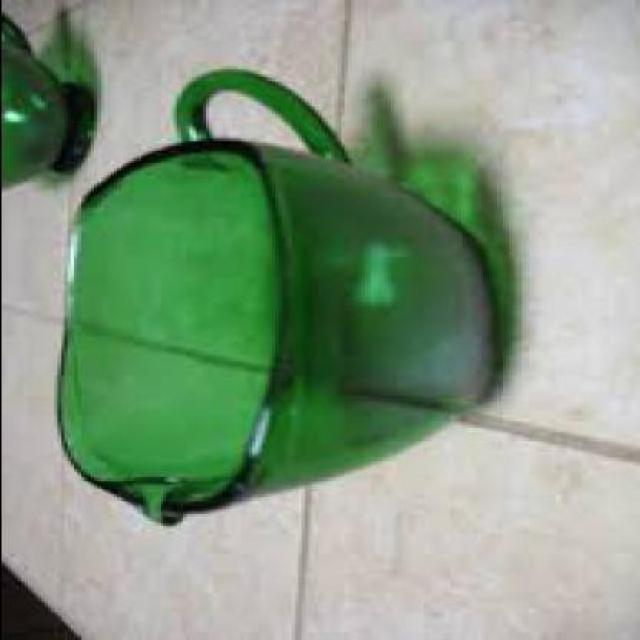GLASS: (49, 65, 498, 523), (2, 11, 89, 186)
